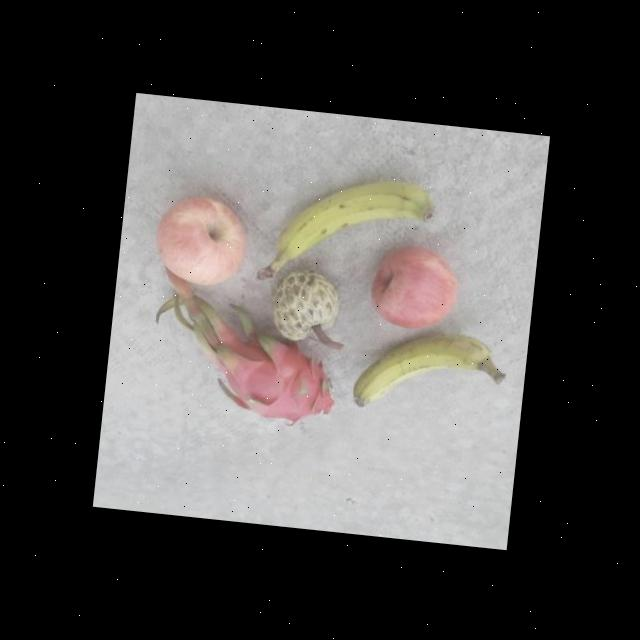Sakya fruit: (266, 264, 346, 348)
apple: (144, 186, 252, 292), (364, 236, 464, 332)
banana: (254, 163, 436, 296), (349, 316, 508, 422)
pitaya: (208, 327, 355, 432)
